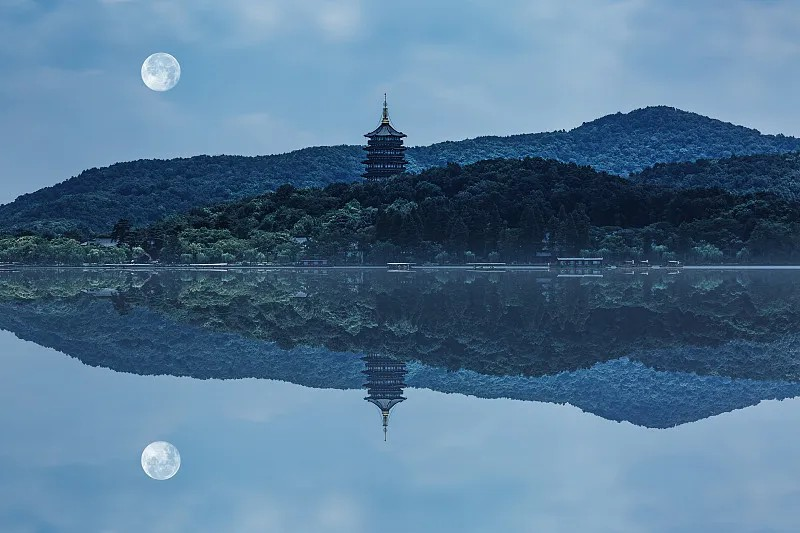Leifeng: (360, 92, 409, 182)
